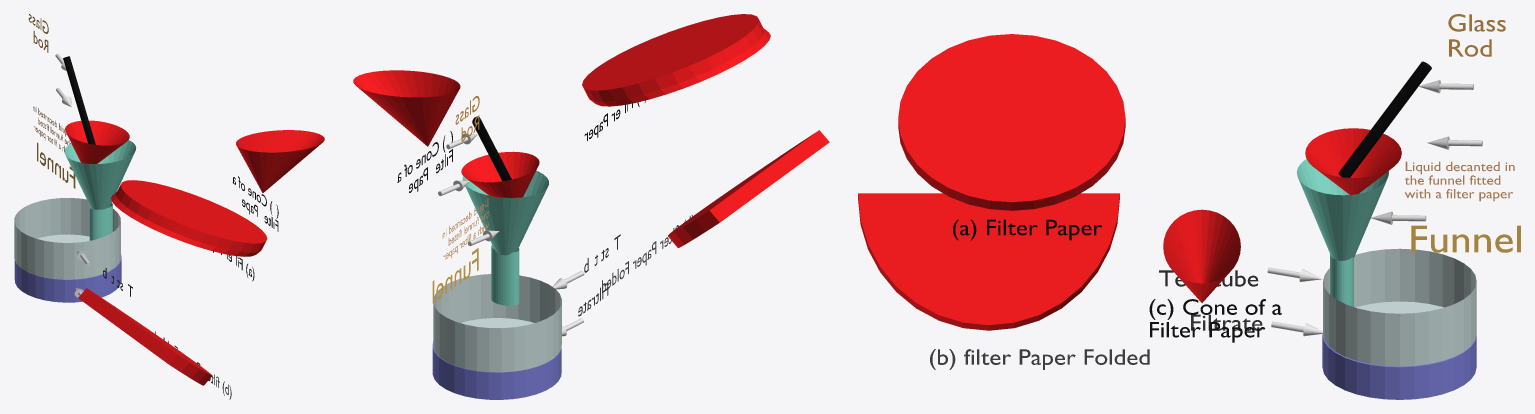
Rendered from science_chapter_2_obj_1.fbx.
The picture shows the model from 3 angles, left to right: view 1: azimuth 30°, elevation 25°; view 2: azimuth 150°, elevation 25°; view 3: azimuth 270°, elevation 25°; orthographic projection. The views are drawn at different scales.
Visible parts, largest first — view 1: Cylinder, Cylinder.002, Cone, Cylinder.003, Cylinder.001, Cylinder.004, Text.002, Text.005, Text.006; view 2: Cylinder, Cylinder.002, Cylinder.003, Cone, Cylinder.001, Cylinder.004, Text.005, Text.002, Text.006, Text.001; view 3: Cylinder, Cylinder.002, Cylinder.003, Cone, Cylinder.004, Text.002, Text.001, Text.005, Text.006, Cylinder.001, Text, Text.004.
Boxes of the visible parts, x1,y1,x2,y2 form: Cylinder: (65, 120, 324, 385); Cylinder.002: (14, 198, 120, 279); Cone: (64, 140, 136, 209); Cylinder.003: (14, 254, 121, 302); Cylinder.001: (89, 203, 112, 240); Cylinder.004: (63, 56, 95, 144); Text.002: (232, 176, 278, 231); Text.005: (33, 106, 70, 151); Text.006: (37, 142, 75, 188); Cylinder: (353, 14, 829, 247); Cylinder.002: (433, 274, 561, 372); Cylinder.003: (432, 341, 561, 399); Cone: (462, 170, 548, 255); Cylinder.001: (491, 245, 519, 305); Cylinder.004: (472, 116, 511, 181); Text.005: (442, 198, 488, 259); Text.002: (397, 131, 452, 192); Text.006: (432, 248, 478, 303); Text.001: (602, 215, 692, 292); Cylinder: (858, 34, 1401, 330); Cylinder.002: (1323, 248, 1476, 366); Cylinder.003: (1322, 333, 1476, 399); Cone: (1296, 159, 1388, 260); Cylinder.004: (1338, 61, 1431, 177); Text.002: (1149, 299, 1281, 342); Text.001: (930, 349, 1149, 369); Text.005: (1405, 161, 1514, 201); Text.006: (1411, 225, 1520, 252); Cylinder.001: (1330, 254, 1353, 306); Text: (953, 219, 1101, 240); Text.004: (1448, 14, 1505, 56).
Size of the model in its own units: 630 by 542 by 920.
